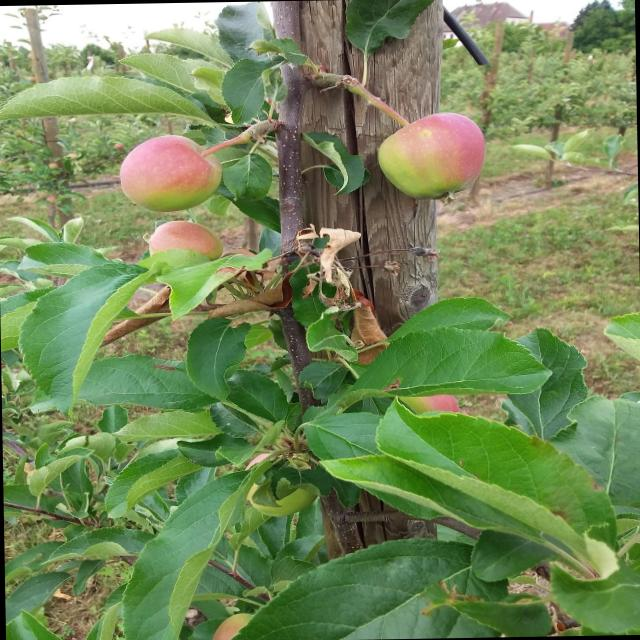-FireBlight-: (296, 222, 386, 360), (234, 246, 374, 325)
